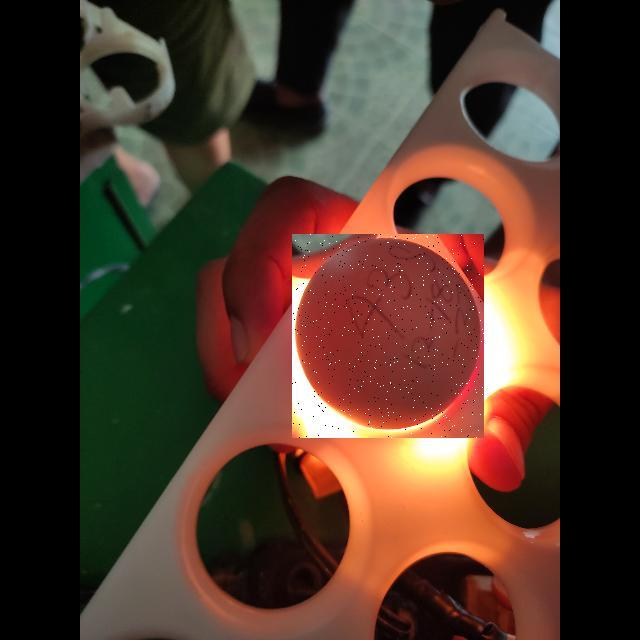Fertile: (292, 234, 484, 438)
